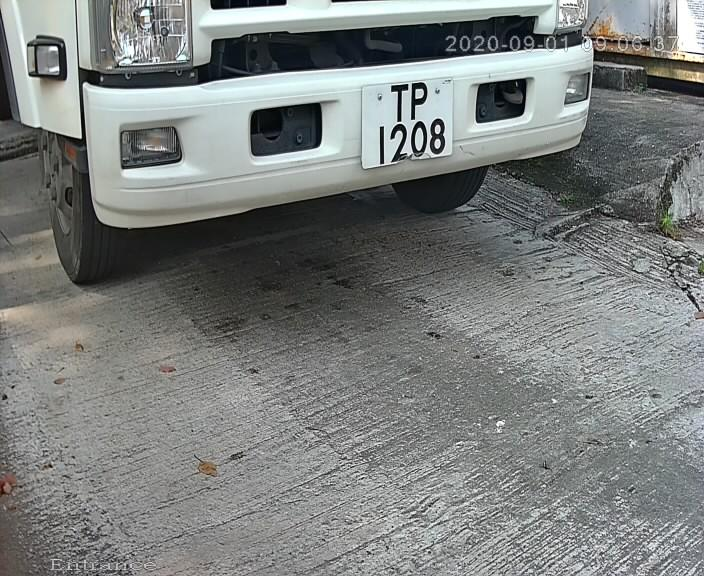License Plate: (343, 65, 478, 175)
